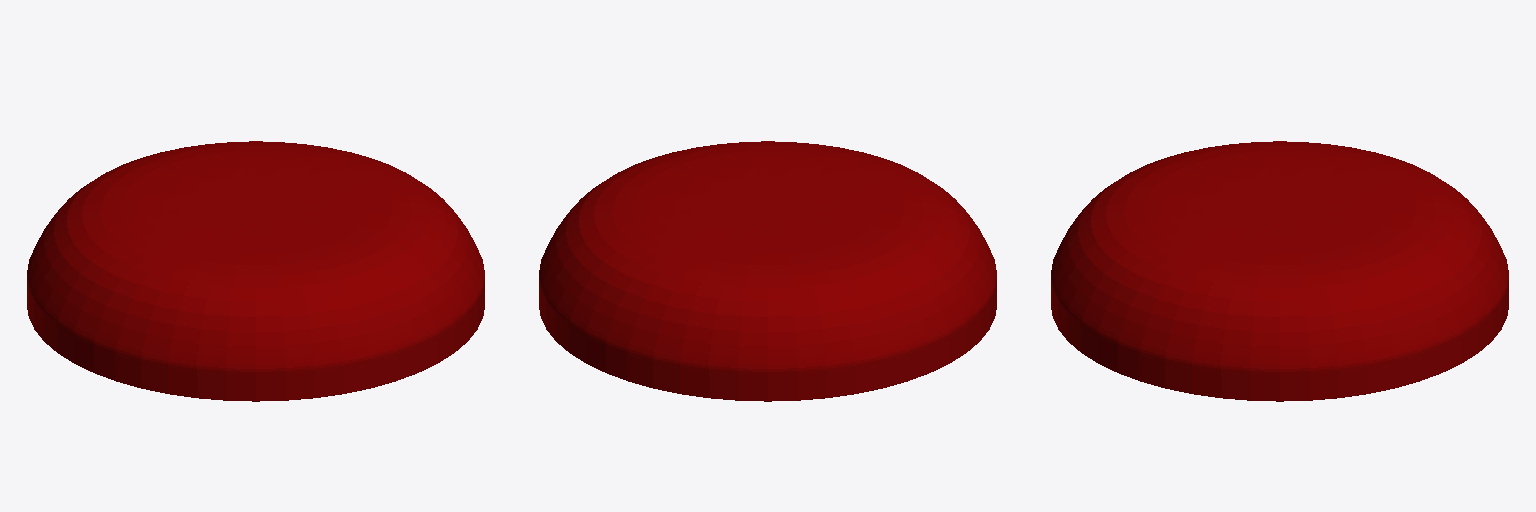
File: button_top.obj
3 renders of one model, left to right at view 1: azimuth 30°, elevation 25°; view 2: azimuth 150°, elevation 25°; view 3: azimuth 270°, elevation 25°, orthographic.
Visible parts, largest first — view 1: emergencybutton_Circle; view 2: emergencybutton_Circle; view 3: emergencybutton_Circle.
Part boxes in pixels (x1,y1,x2,y2): emergencybutton_Circle: (27, 141, 484, 401); emergencybutton_Circle: (539, 141, 996, 401); emergencybutton_Circle: (1051, 141, 1508, 401).
Size of the model in its own units: 0.3156 by 0.0763 by 0.3156.